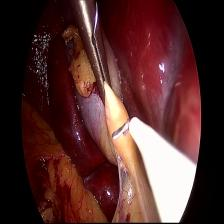Grasper: (68, 1, 121, 106)
Hook: (111, 115, 187, 211)
